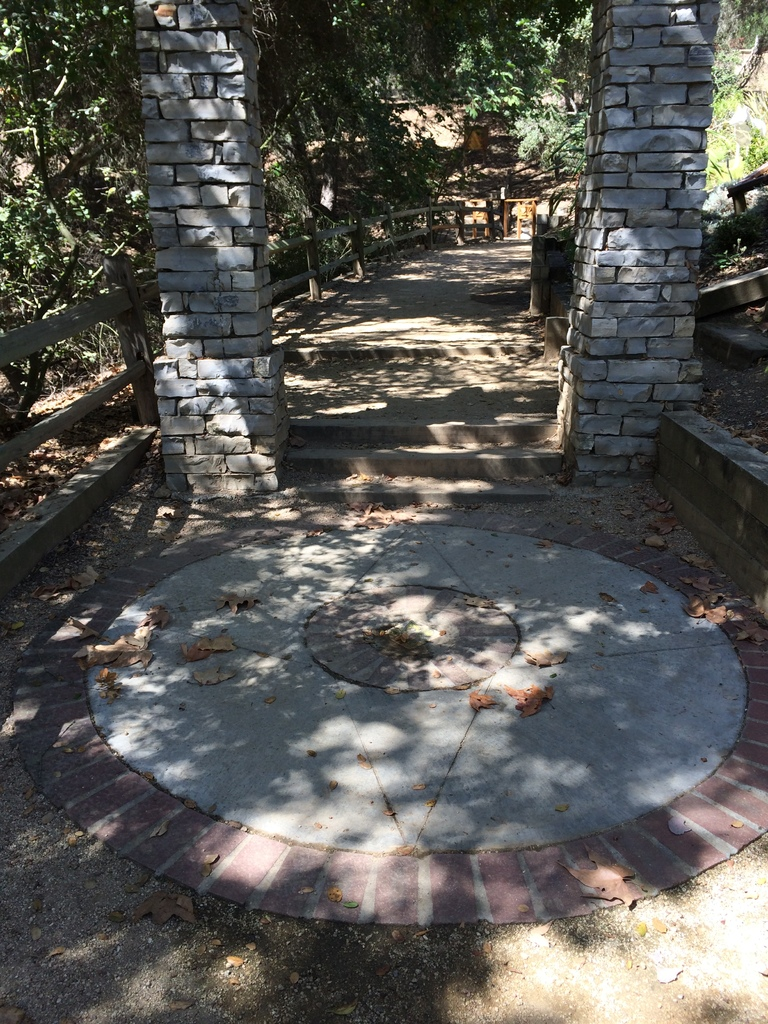Tree: (0, 0, 768, 430)
